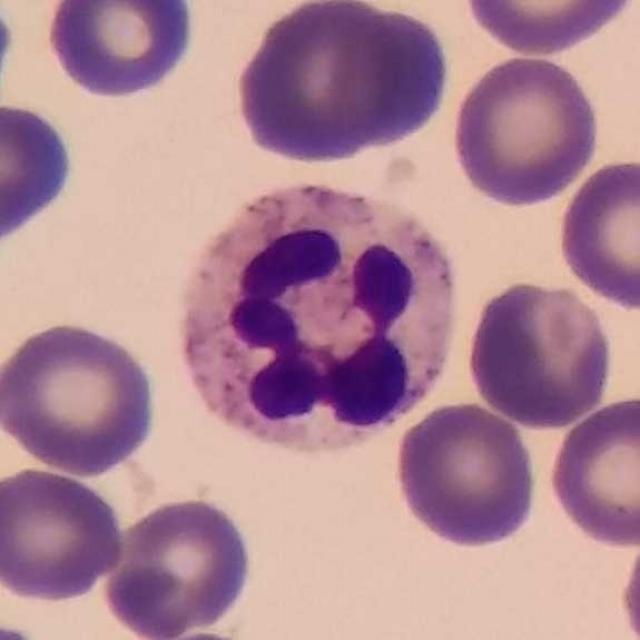Neutrophil: (162, 159, 468, 461)
RBC: (228, 0, 453, 167), (0, 316, 163, 478), (446, 51, 604, 209), (461, 276, 618, 431), (102, 489, 263, 637), (391, 397, 541, 551), (0, 463, 129, 604), (40, 0, 200, 104), (545, 392, 640, 551), (553, 155, 640, 314), (0, 95, 82, 259), (457, 0, 640, 58), (615, 517, 640, 640)
